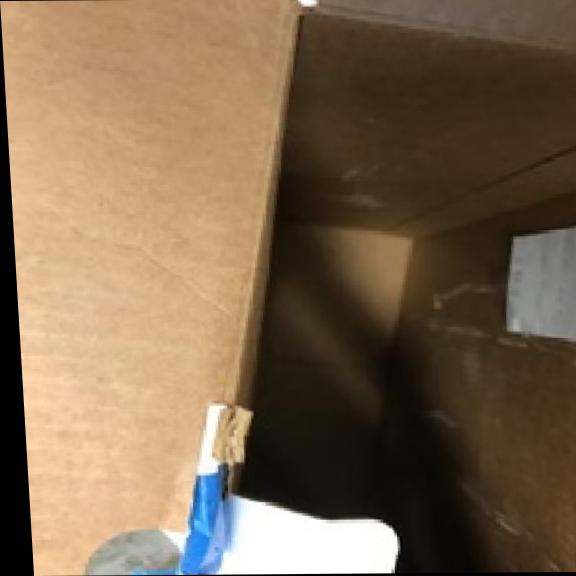Kertas: (5, 0, 576, 576)
